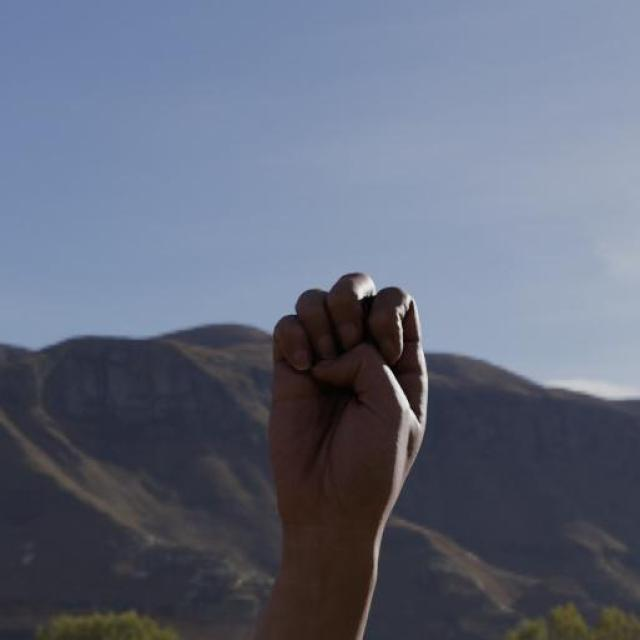E: (265, 267, 431, 533)
